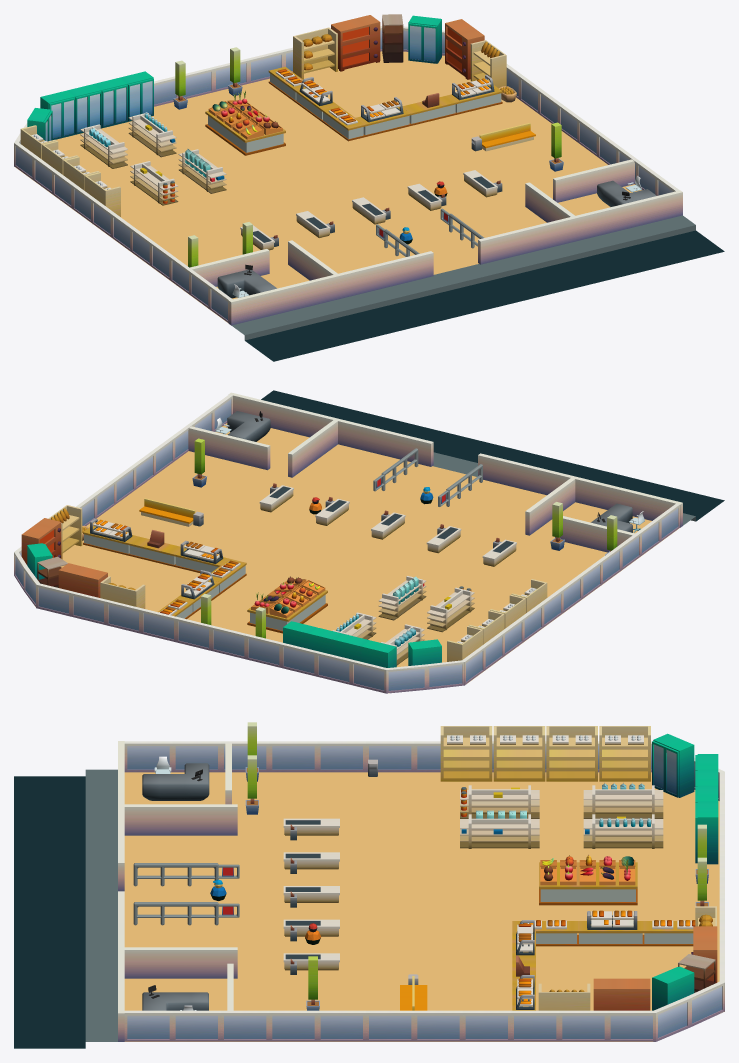
Rendered from market idle.obj.
3 renders of one model, top to bottom at view 1: azimuth 30°, elevation 25°; view 2: azimuth 150°, elevation 25°; view 3: azimuth 270°, elevation 25°, orthographic. The views are drawn at different scales.
Parts seen in each view (by area): view 1: Plane, Cube.062_Cube.255, Cube.059_Cube.022, Cube.008_Cube.011, Cube.060_Cube.245, Cube.050_Cube.059, Cube.033_Cube.042, Cube.036_Cube.045, Cube.131_Cube.242, Cube.028_Cube.035, Cube.126_Cube.235, Cube.124_Cube.233 (+13 smaller); view 2: Plane, Cube.062_Cube.255, Cube.059_Cube.022, Cube.060_Cube.245, Cube.008_Cube.011, Cube.132_Cube.247, Cube.050_Cube.059, Cube.061_Cube.246, Cube.051_Cube.063, Cube.033_Cube.042, Cube.190_Cube.151, Cube.131_Cube.242 (+25 smaller); view 3: Plane, Cube.059_Cube.022, Cube.062_Cube.255, Cube.008_Cube.011, Cube.050_Cube.059, Cube.128_Cube.238, Cube.042_Cube.051, Cube.129_Cube.239, Cube.130_Cube.240, Cube.051_Cube.063, Cube.028_Cube.035, Cube.189_Cube.150 (+20 smaller).
Part boxes in pixels (x1,y1,x2,y2): Plane: (15,51,724,361); Cube.062_Cube.255: (190,159,682,325); Cube.059_Cube.022: (14,64,679,322); Cube.008_Cube.011: (80,113,226,205); Cube.060_Cube.245: (154,26,382,106); Cube.050_Cube.059: (27,15,441,141); Cube.033_Cube.042: (331,15,380,71); Cube.036_Cube.045: (293,27,337,79); Cube.131_Cube.242: (445,19,484,79); Cube.028_Cube.035: (205,105,285,155); Cube.126_Cube.235: (93,78,127,128); Cube.124_Cube.233: (40,90,75,139); Plane: (35,390,724,693); Cube.062_Cube.255: (188,392,682,552); Cube.059_Cube.022: (14,394,679,685); Cube.060_Cube.245: (36,583,386,693); Cube.008_Cube.011: (332,576,474,665); Cube.132_Cube.247: (24,567,426,693); Cube.050_Cube.059: (27,543,441,665); Cube.061_Cube.246: (14,551,464,689); Cube.051_Cube.063: (373,448,482,506); Cube.033_Cube.042: (58,563,107,597); Cube.190_Cube.151: (215,411,270,441); Cube.131_Cube.242: (21,518,61,564); Plane: (14,769,724,1048); Cube.059_Cube.022: (124,741,655,1041); Cube.062_Cube.255: (118,741,237,1041); Cube.008_Cube.011: (460,785,663,848); Cube.050_Cube.059: (652,733,694,1010); Cube.128_Cube.238: (493,726,545,781); Cube.042_Cube.051: (440,726,492,781); Cube.129_Cube.239: (546,726,597,781); Cube.130_Cube.240: (599,726,650,781); Cube.051_Cube.063: (133,863,239,925); Cube.028_Cube.035: (539,862,637,905); Cube.189_Cube.150: (142,756,209,800).
Size of the model in its own units: 53.34 by 5.63 by 58.86.
Materials: 1 (1 with a texture image).
